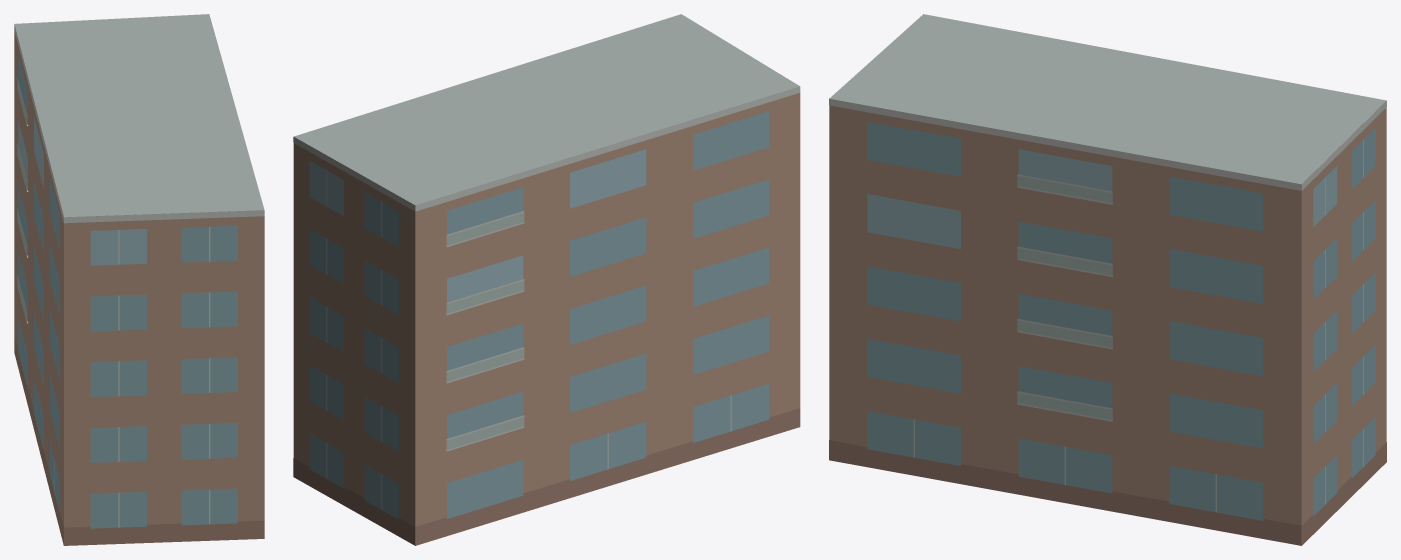
File: survey-upis-32900331.glb
3 views of the same model, side by side, from view 1: azimuth 30°, elevation 25°; view 2: azimuth 150°, elevation 25°; view 3: azimuth 270°, elevation 25° (orthographic). The views are drawn at different scales.
Parts seen in each view (by area): view 1: survey-upis-32900331.tmp; view 2: survey-upis-32900331.tmp; view 3: survey-upis-32900331.tmp.
Boxes of the visible parts, x1,y1,x2,y2 form: survey-upis-32900331.tmp: (14,14,264,545); survey-upis-32900331.tmp: (293,14,800,545); survey-upis-32900331.tmp: (829,14,1386,545).
Bounding box in the file's own units: 13.45 × 13.3 × 18.6.
